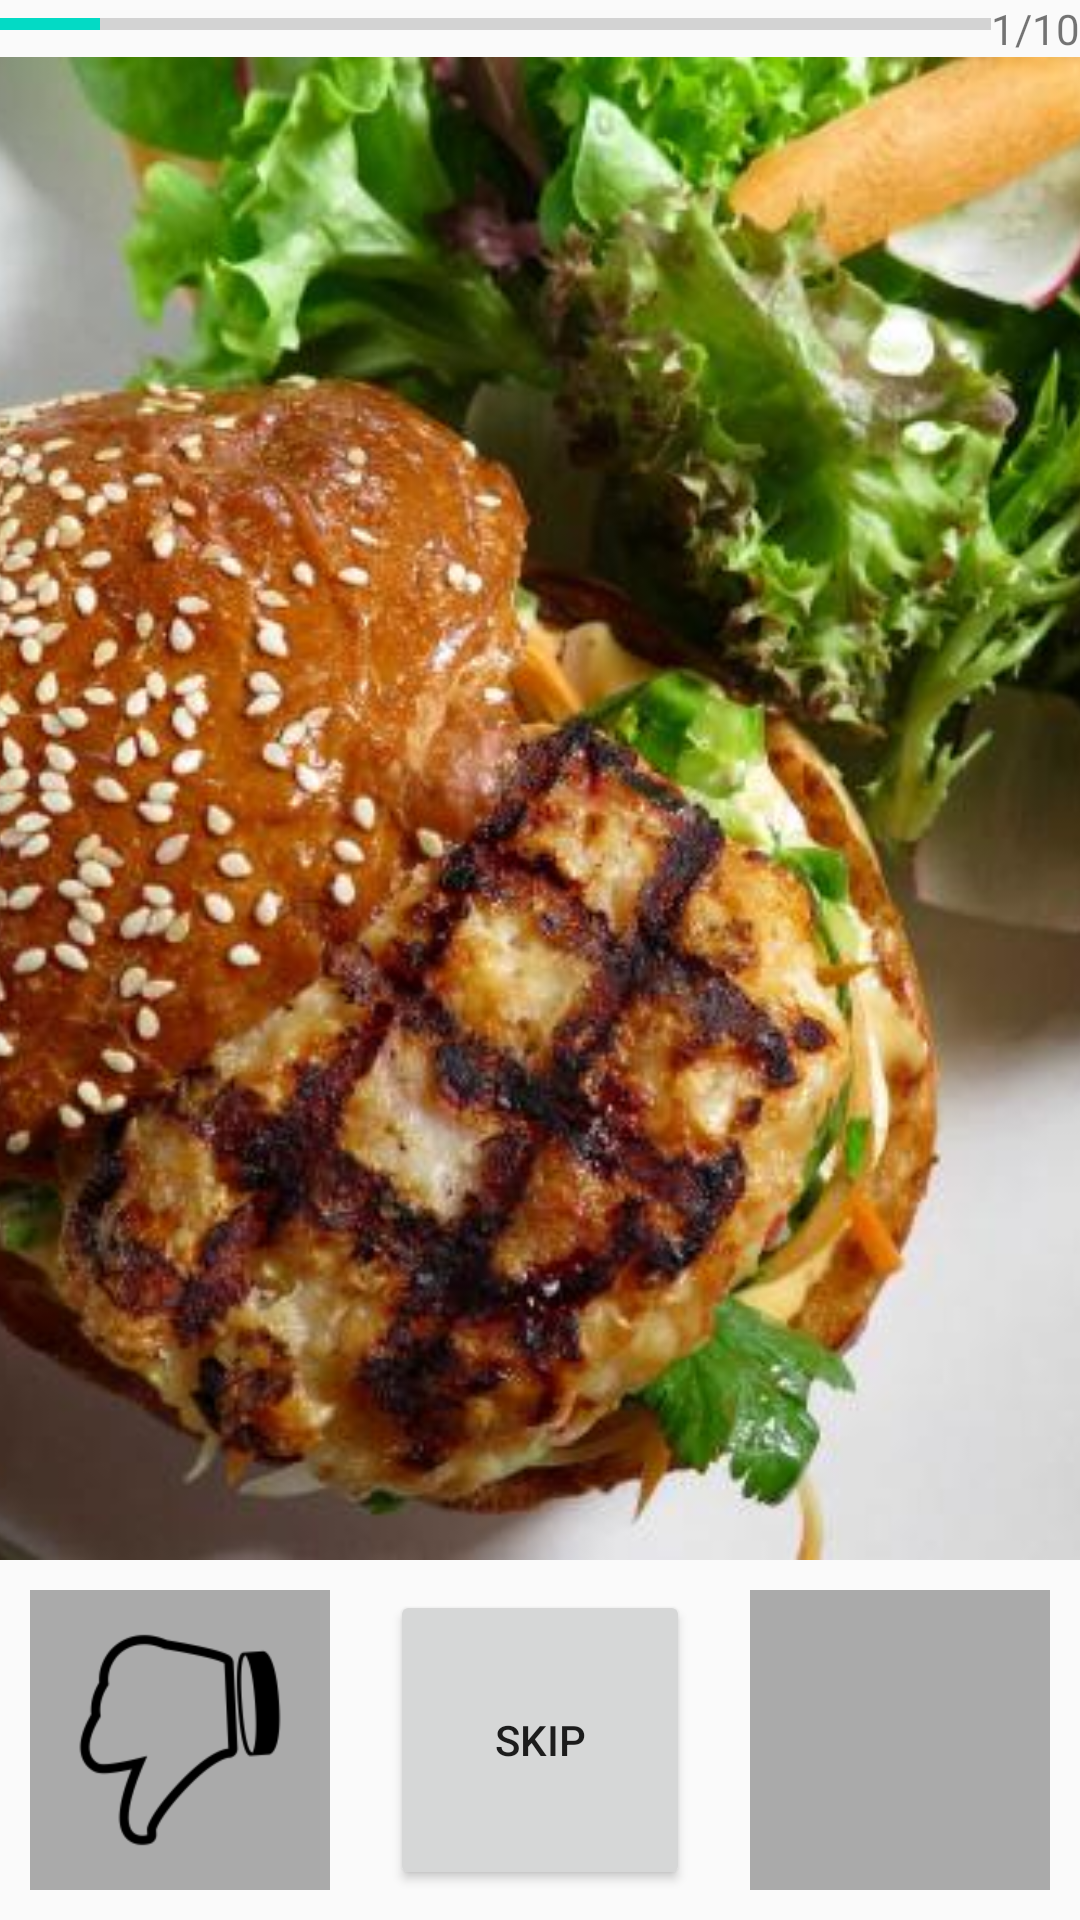

Screen size 1080w x 1920h. Icon name, then its box in pixels as (x1, y1, x2, y2):
thumbsdown: (30, 1590, 330, 1890)
